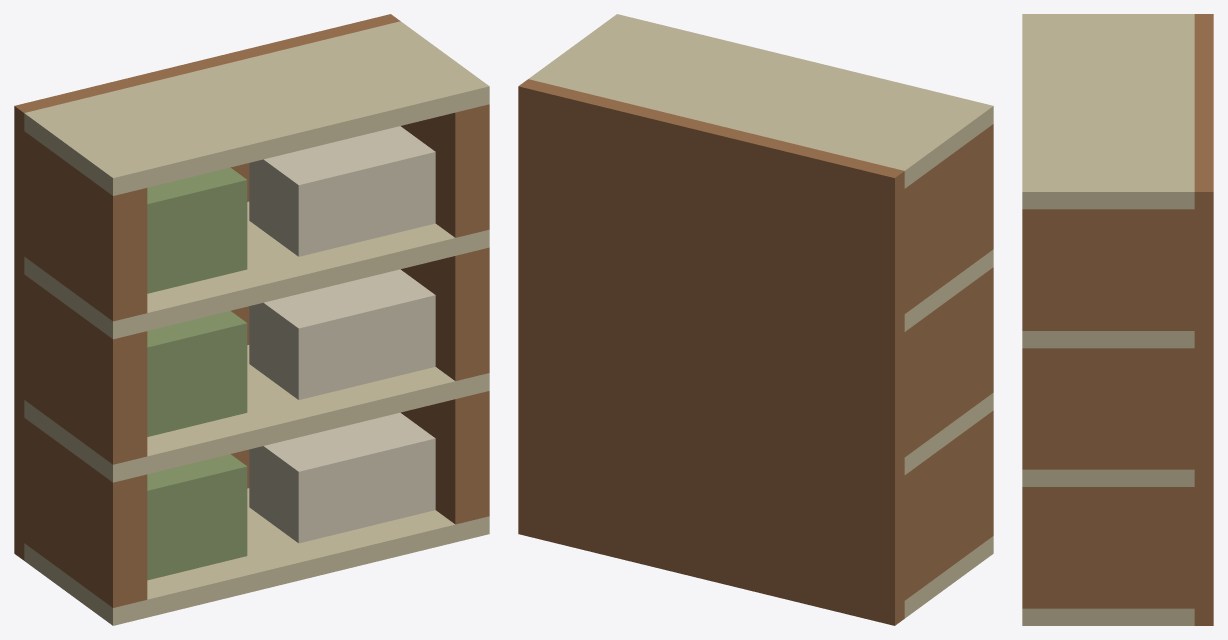
File: biotech-08.glb
3 renders of one model, left to right at view 1: azimuth 30°, elevation 25°; view 2: azimuth 150°, elevation 25°; view 3: azimuth 270°, elevation 25°, orthographic. The views are drawn at different scales.
Visible parts, largest first — view 1: Pipette rack; view 2: Pipette rack; view 3: Pipette rack.
Part boxes in pixels (x1,y1,x2,y2): Pipette rack: [14, 14, 489, 625]; Pipette rack: [518, 14, 993, 625]; Pipette rack: [1022, 14, 1213, 625].
Size of the model in its own units: 1.76 by 2 by 0.8.
